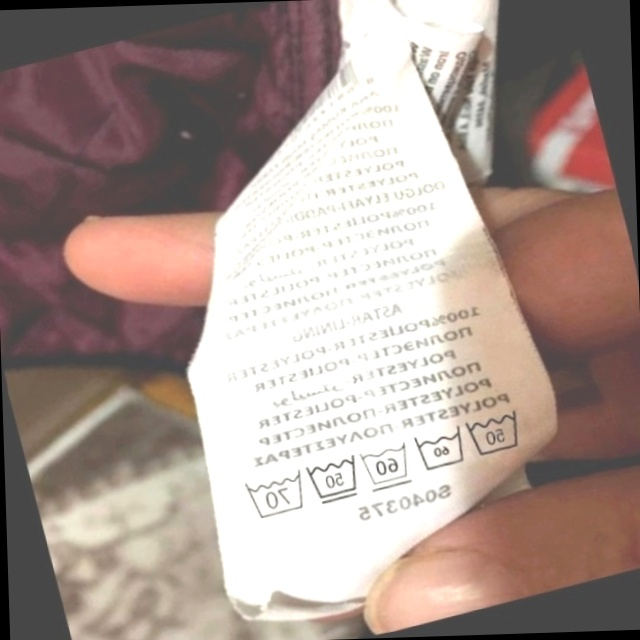50C: (456, 398, 534, 467), (298, 447, 369, 513)
60C: (351, 434, 419, 498), (405, 418, 474, 481)
70C: (234, 463, 312, 528)
